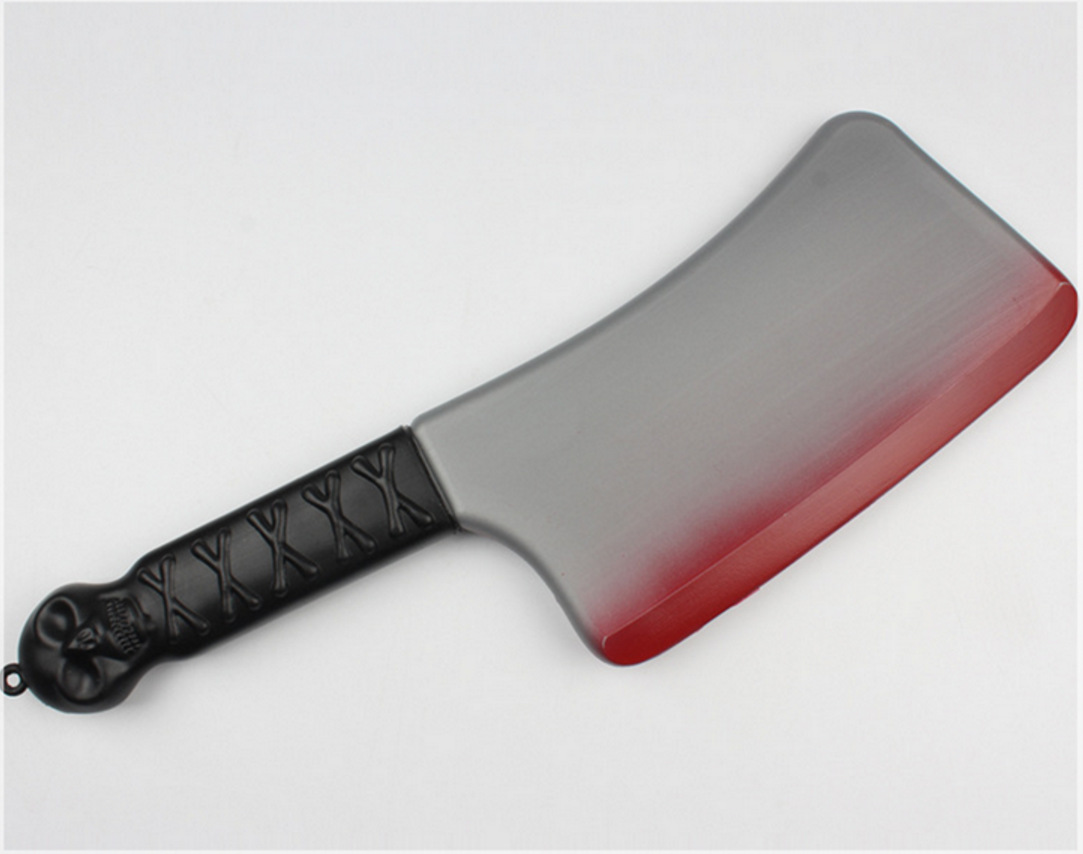knief: (39, 101, 1060, 715)
